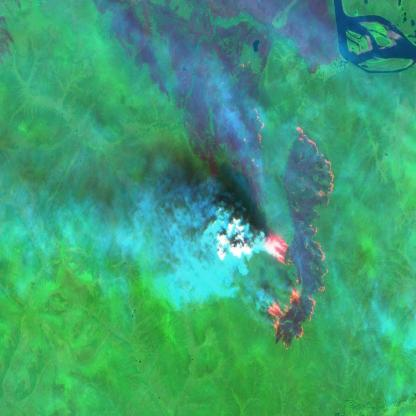fire: (247, 103, 338, 356)
